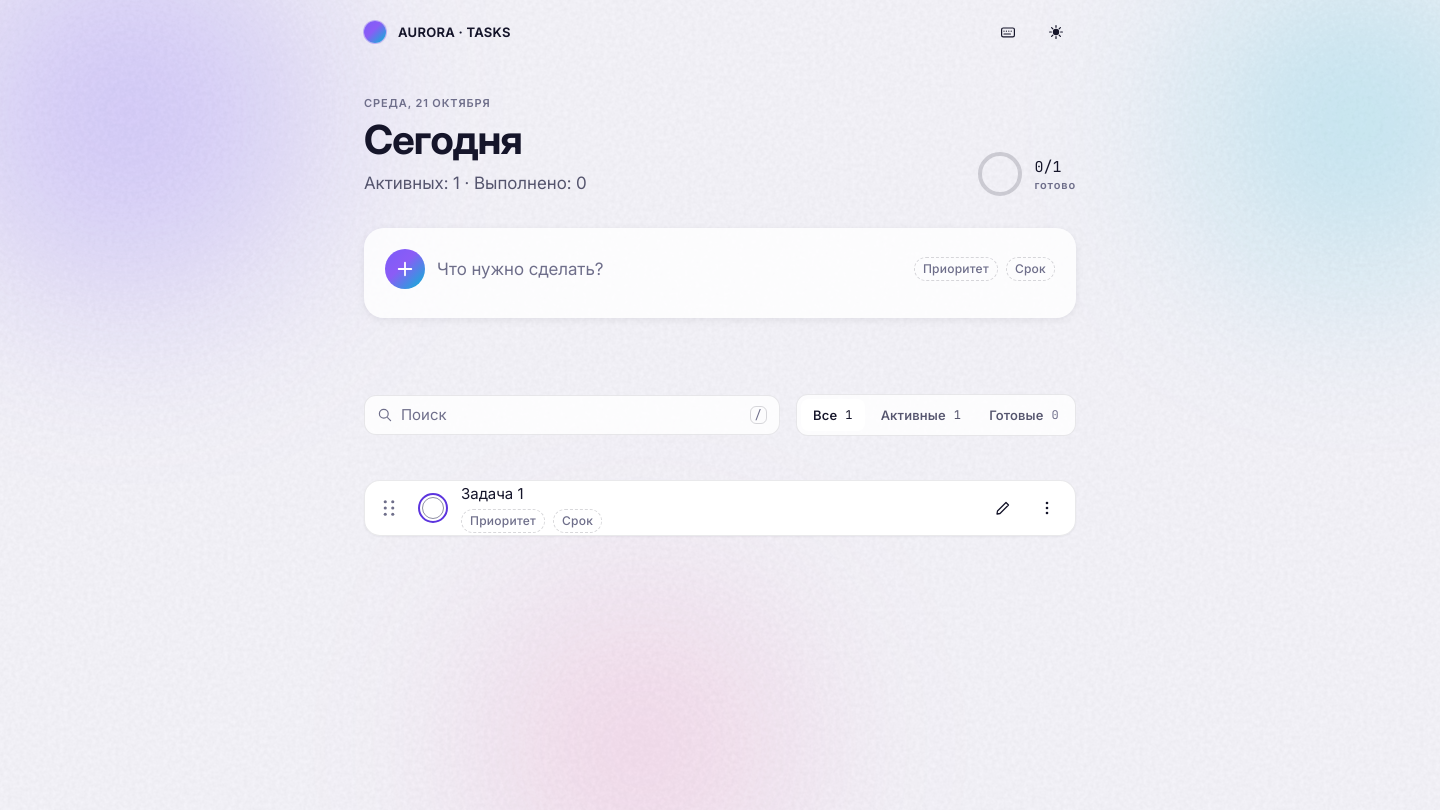
it: keyboard flow (design-spec 6.3 / section 7) › editing from the keyboard (acceptance criterion 32) › Enter in an open due-date popup picks the item instead of saving the task
Type keys "e"
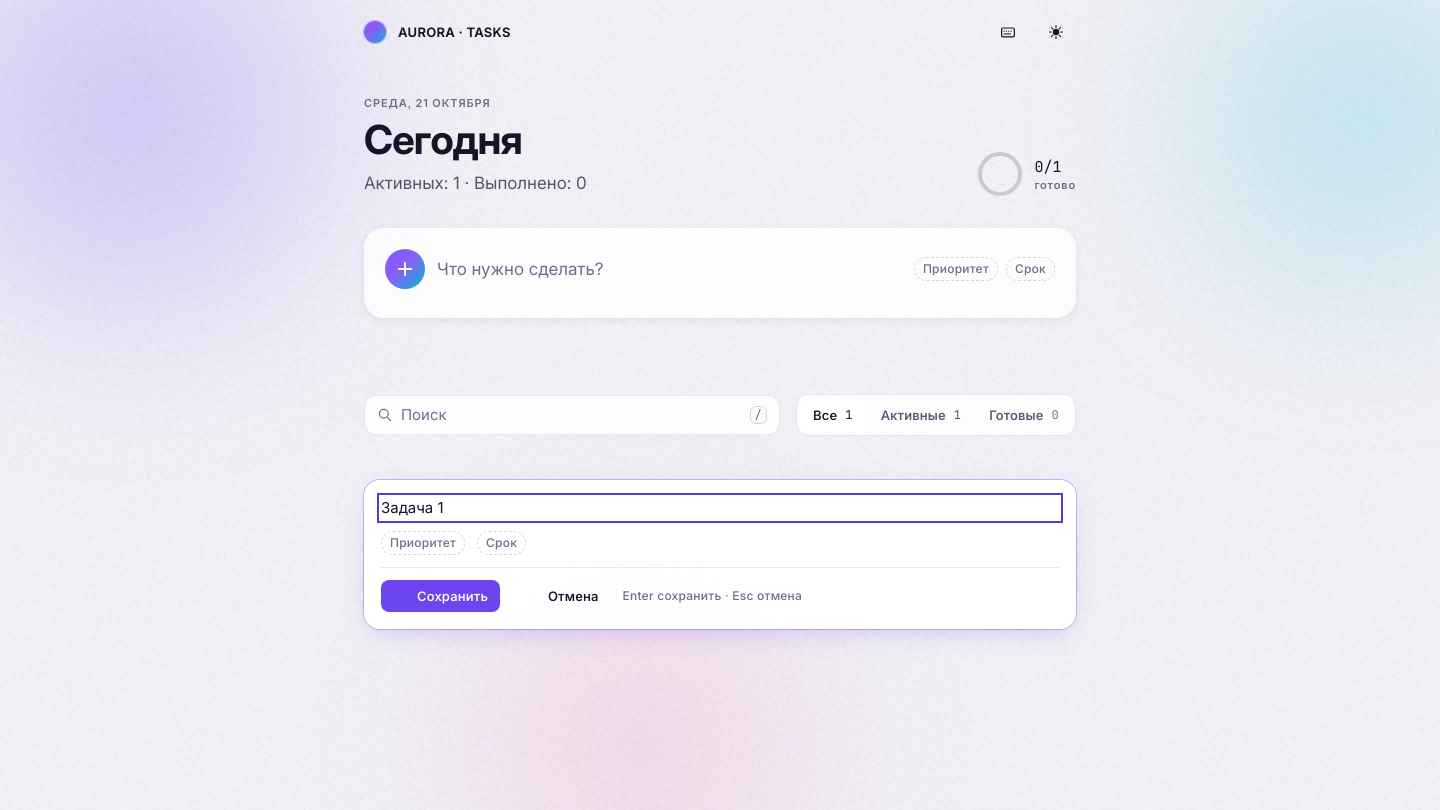
Click the 2nd button "Срок" at (502, 543), box x1=477 y1=531 x2=526 y2=555
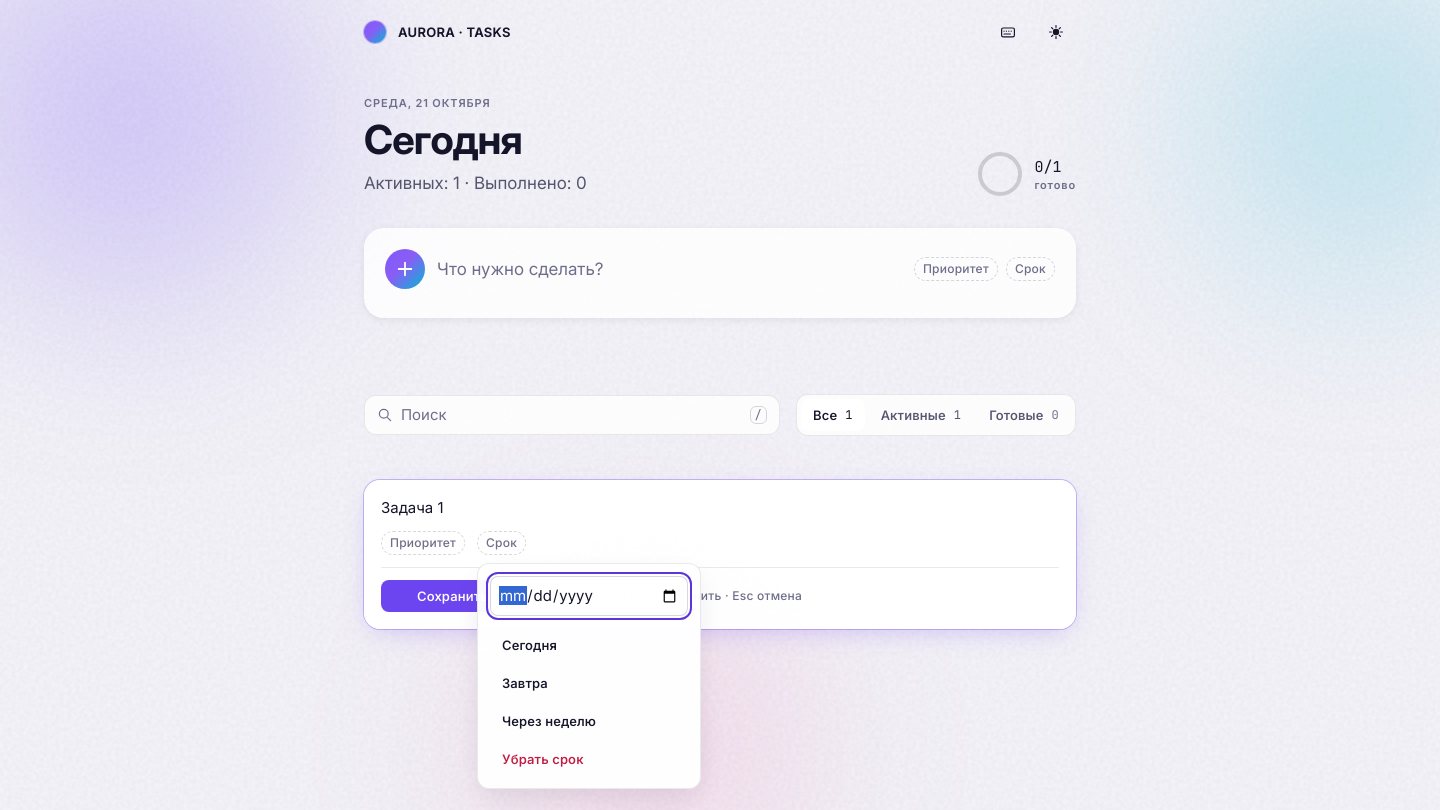
Expected: the button "Убрать срок" is shown, x1=490 y1=742 x2=688 y2=776
Press Tab
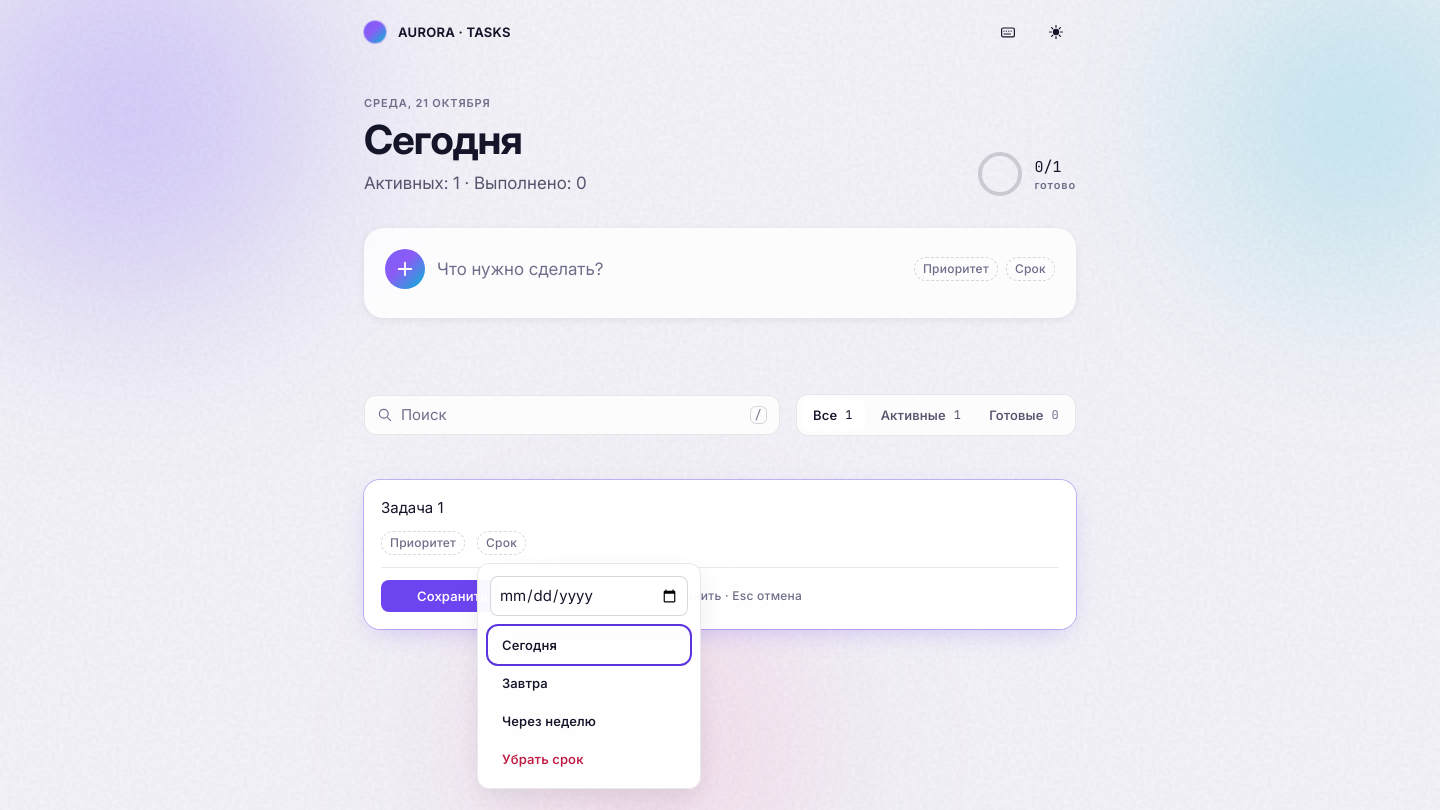
Press Enter
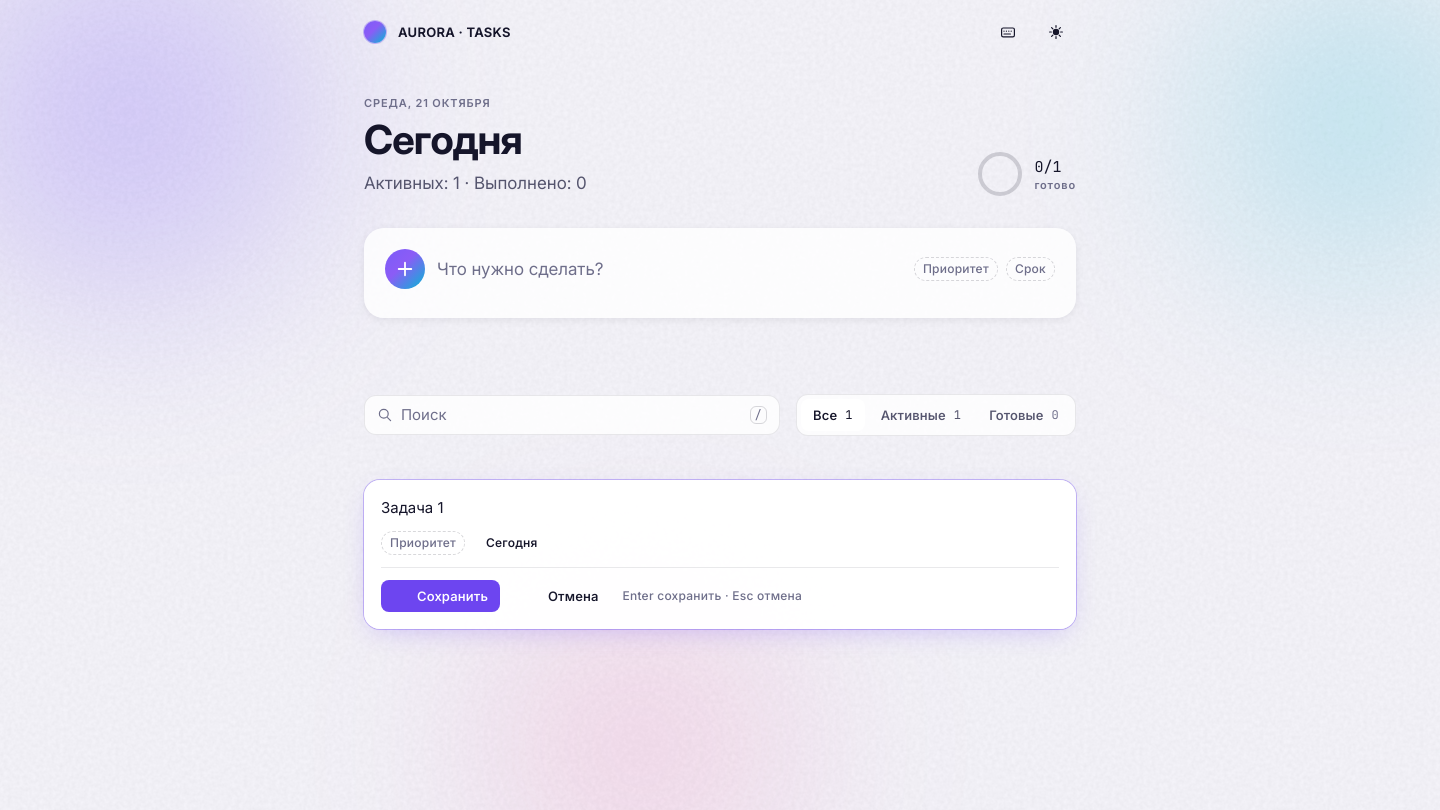
Expected: the text box named "Текст задачи" is shown, x1=381 y1=497 x2=1059 y2=519
Expected: the button "Убрать срок" is gone
Expected: the button "Сегодня" is shown, x1=477 y1=531 x2=547 y2=555
